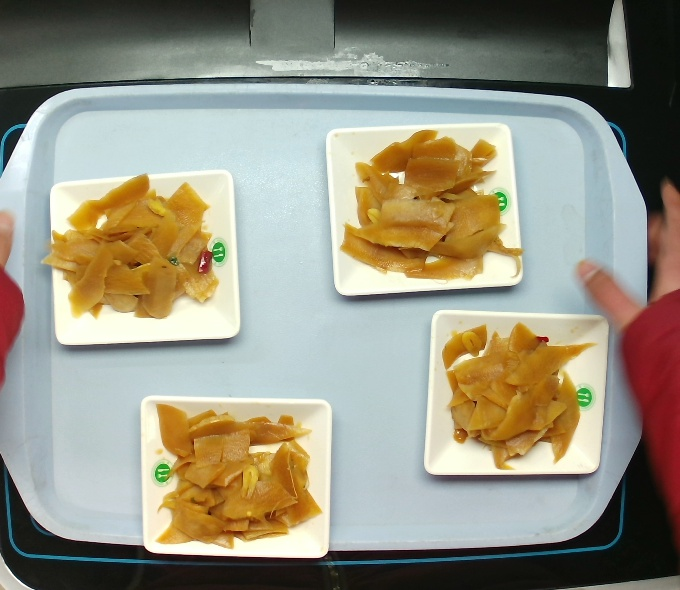wcq-JiangLuoBo: (157, 385, 324, 565), (340, 133, 510, 285), (49, 179, 217, 327), (443, 322, 588, 460)
